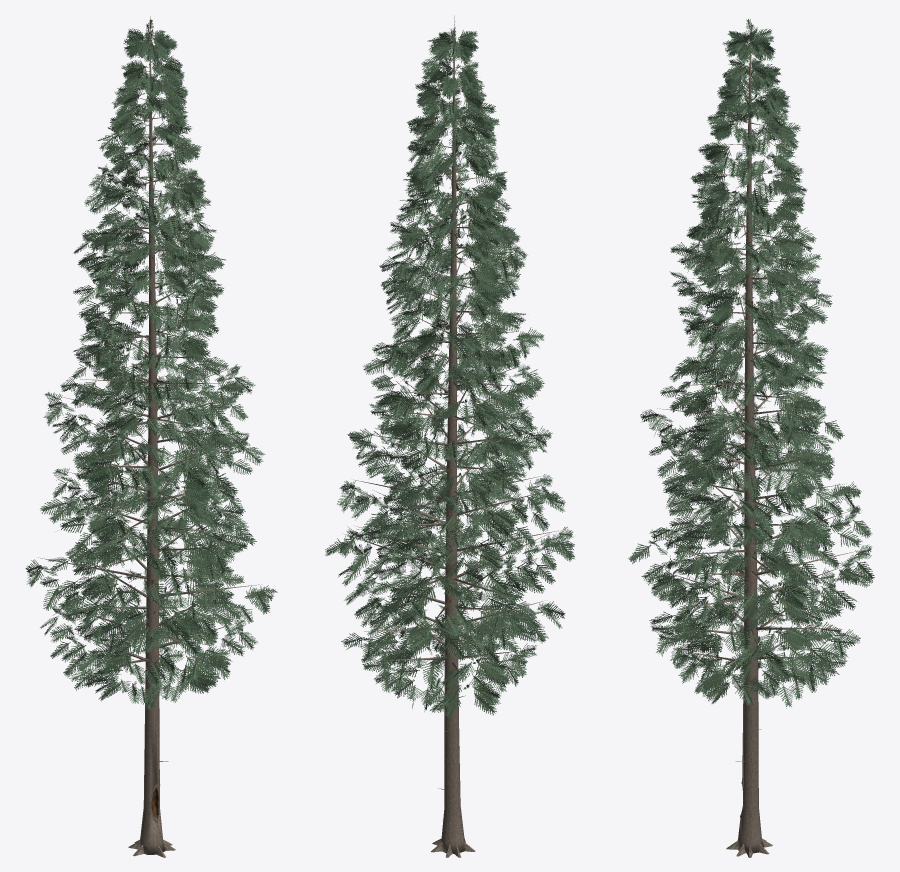
Rendered from SS_Defect_Cavity_Mature_02_LOD2.fbx.
The picture shows the model from 3 angles, left to right: view 1: azimuth 30°, elevation 25°; view 2: azimuth 150°, elevation 25°; view 3: azimuth 270°, elevation 25°; orthographic projection.
Parts seen in each view (by area): view 1: SS_Defect_Cavity_Mature_02_LOD2_Foliage, SS_Defect_Cavity_Mature_02_LOD2_Trunk, SS_Defect_Cavity_Mature_02_LOD2_Branches; view 2: SS_Defect_Cavity_Mature_02_LOD2_Foliage, SS_Defect_Cavity_Mature_02_LOD2_Trunk, SS_Defect_Cavity_Mature_02_LOD2_Branches; view 3: SS_Defect_Cavity_Mature_02_LOD2_Foliage, SS_Defect_Cavity_Mature_02_LOD2_Trunk, SS_Defect_Cavity_Mature_02_LOD2_Branches.
Boxes of the visible parts, x1,y1,x2,y2 form: SS_Defect_Cavity_Mature_02_LOD2_Foliage: (25, 19, 277, 710); SS_Defect_Cavity_Mature_02_LOD2_Trunk: (128, 16, 175, 857); SS_Defect_Cavity_Mature_02_LOD2_Branches: (38, 36, 261, 785); SS_Defect_Cavity_Mature_02_LOD2_Foliage: (325, 21, 574, 718); SS_Defect_Cavity_Mature_02_LOD2_Trunk: (431, 15, 475, 857); SS_Defect_Cavity_Mature_02_LOD2_Branches: (344, 37, 561, 820); SS_Defect_Cavity_Mature_02_LOD2_Foliage: (628, 19, 874, 708); SS_Defect_Cavity_Mature_02_LOD2_Trunk: (726, 19, 772, 857); SS_Defect_Cavity_Mature_02_LOD2_Branches: (657, 39, 858, 794).
Size of the model in its own units: 763 by 2600 by 761.
